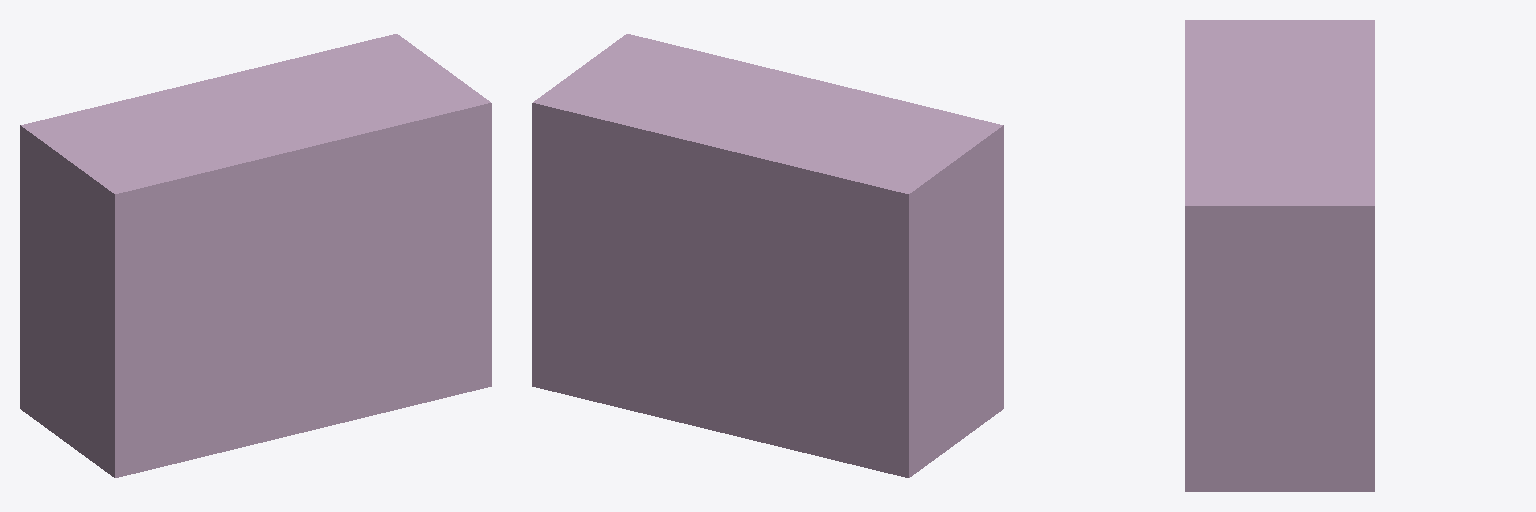
URDF robot description (box.urdf):
<?xml version="1.0" ?>
<robot name="box.urdf">
  <link name="baseLink">
    <contact>
      <lateral_friction value="1.0"/>
      <rolling_friction value="0.0001"/>
      <inertia_scaling value="3.0"/>
    </contact>
    <inertial>
      <origin rpy="0 0 0" xyz="0 0 0"/>
       <mass value="0.1"/>
       <inertia ixx="1" ixy="0" ixz="0" iyy="1" iyz="0" izz="1"/>
    </inertial>
    <visual>
      <origin rpy="0 0 0" xyz="0 0 0"/>
      <geometry>
        <!-- <box size="0.315 0.13699999999999998 0.22699999999999998"/> -->
        <mesh filename="box/box.obj" scale="0.315 0.13699999999999998 0.22699999999999998"/>
      </geometry>
      <material name="white">
        <color rgba="0.8 0.7 0.8 1"/>
      </material>
    </visual>
    <collision>
      <origin rpy="0 0 0" xyz="0 0 0"/>
      <geometry>
        <mesh filename="box/box.obj" scale="0.315 0.13699999999999998 0.22699999999999998"/>
	 	    <!-- <box size="0.315 0.13699999999999998 0.22699999999999998"/> -->
      </geometry>
    </collision>
  </link>
</robot>

--- Facts derived from the render (not from the file) ---
3 views of the same robot in one strip: view 1: azimuth 30°, elevation 25°; view 2: azimuth 150°, elevation 25°; view 3: azimuth 270°, elevation 25° (orthographic).
Robot: box.urdf — 1 links, 0 joints (none); root link baseLink; default pose: all joints at 0.
Links seen in each view (by area): view 1: baseLink; view 2: baseLink; view 3: baseLink.
Boxes of the visible links, x1,y1,x2,y2 form: baseLink: [20, 34, 491, 477]; baseLink: [532, 34, 1003, 477]; baseLink: [1185, 20, 1374, 491].
Bounding box of the posed robot: 0.315 × 0.137 × 0.227 m (x, y, z).
1 mesh visuals loaded from 1 distinct referenced files (1 OBJ).
